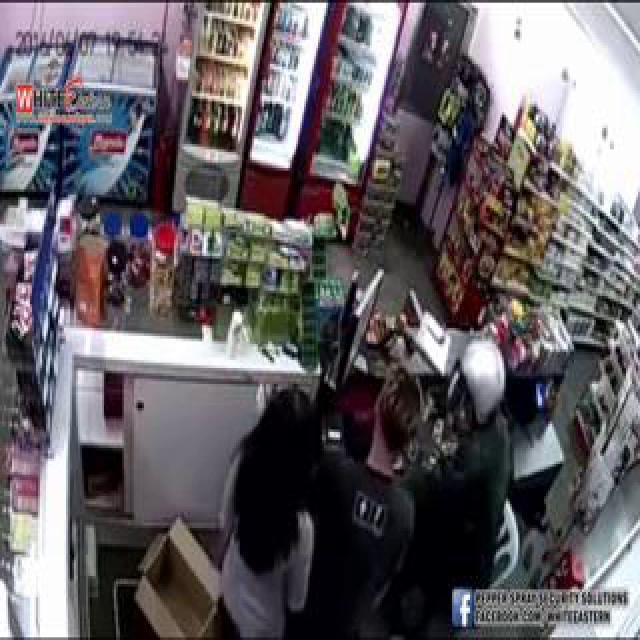robbery: (206, 307, 537, 610)
